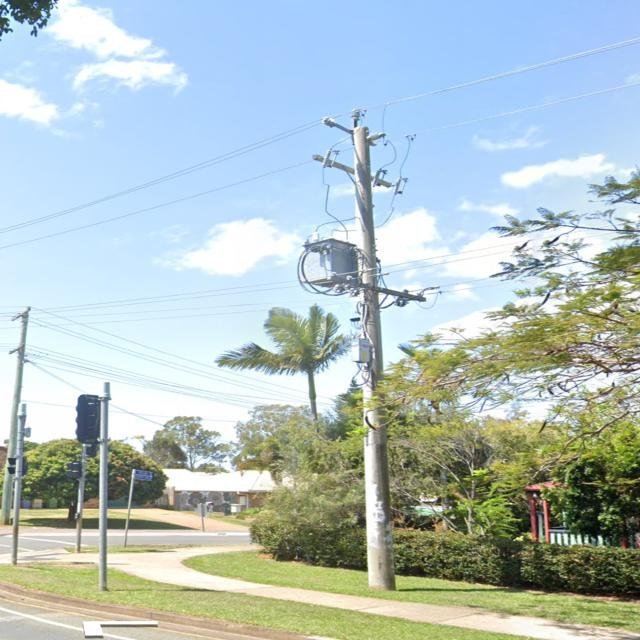HV-transmission: (312, 107, 394, 191)
concrete-pole: (350, 127, 395, 591), (0, 314, 31, 525)
crossarm: (310, 154, 395, 190), (326, 276, 427, 304), (322, 108, 387, 148), (11, 307, 33, 320), (8, 343, 26, 355)
steel-pole: (98, 381, 113, 592), (10, 404, 27, 566), (74, 444, 86, 554)
traffic-light: (74, 393, 103, 443), (6, 456, 27, 475), (65, 461, 82, 478), (85, 442, 99, 458)
transformer: (302, 232, 357, 287)
